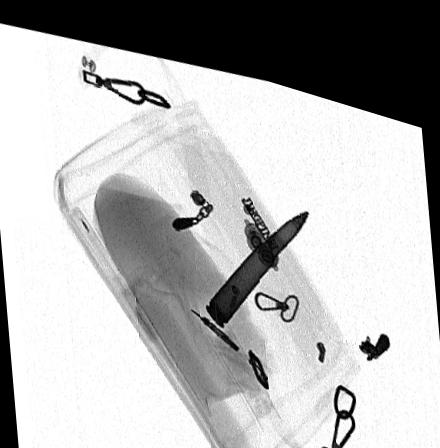Bullet: (204, 191, 309, 315)
